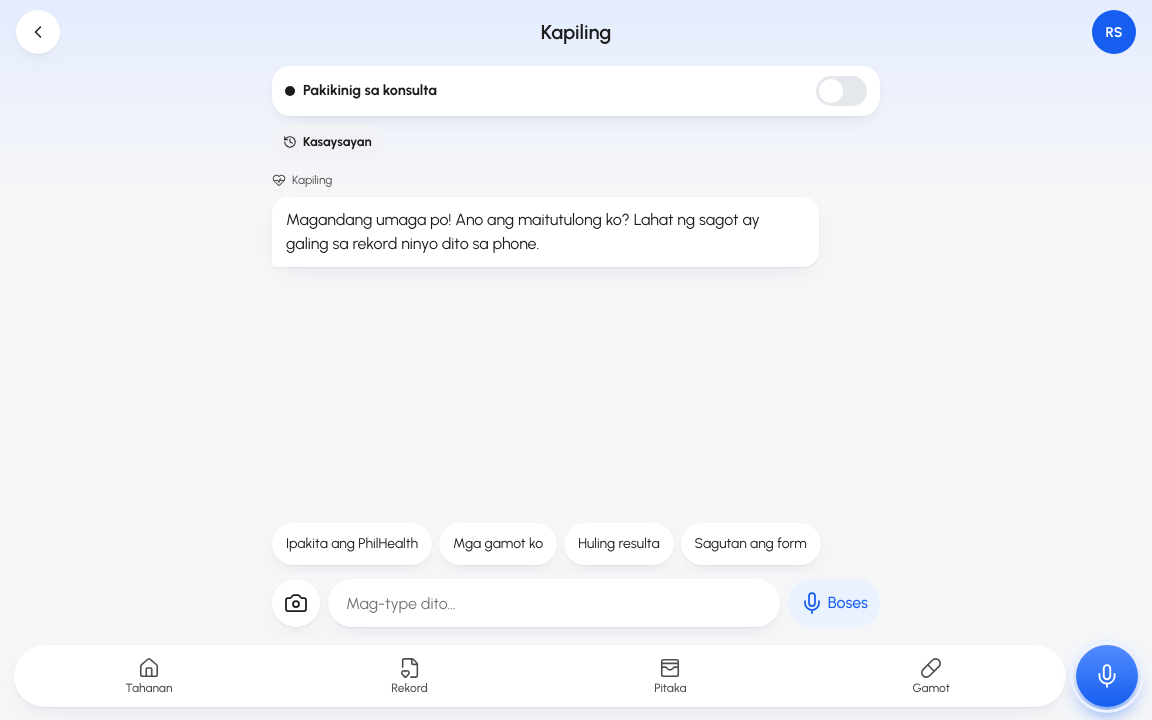
Test case: ChatPage › Stop posts cancel and shows "Itinigil"
Type "Kumusta" into the text box labelled "Mag-type dito…" at (554, 603), box [328,579,780,627]
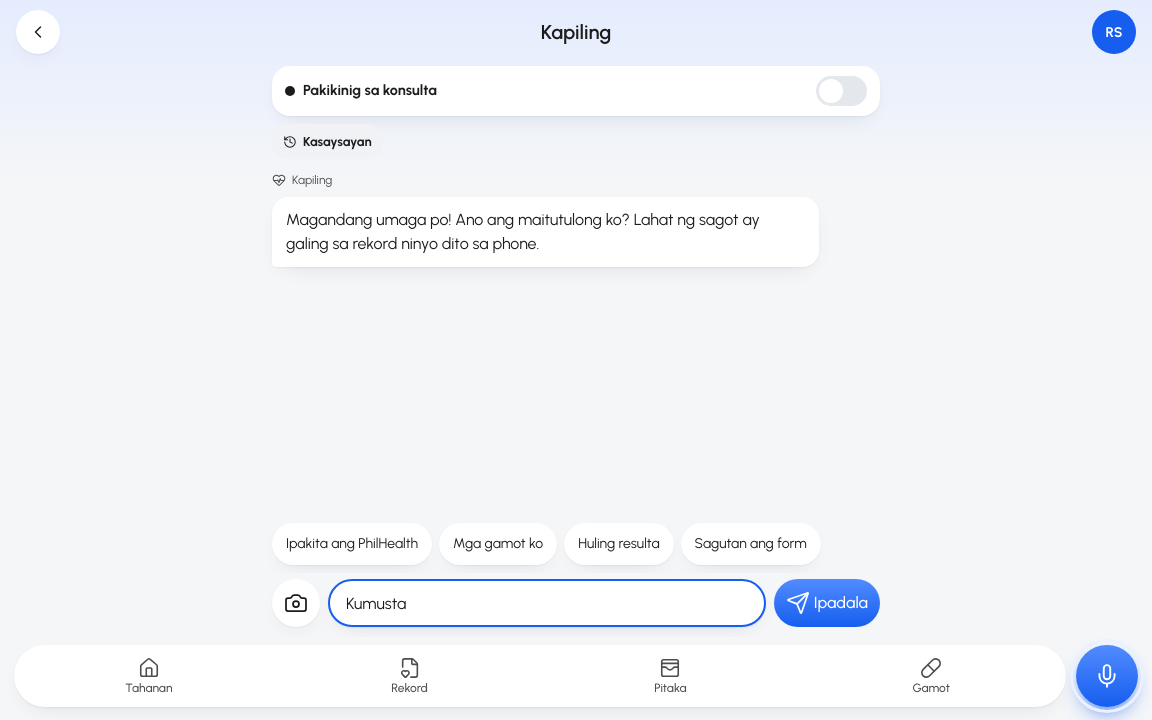
Click the button "Ipadala" at (827, 603), box [774,579,880,627]
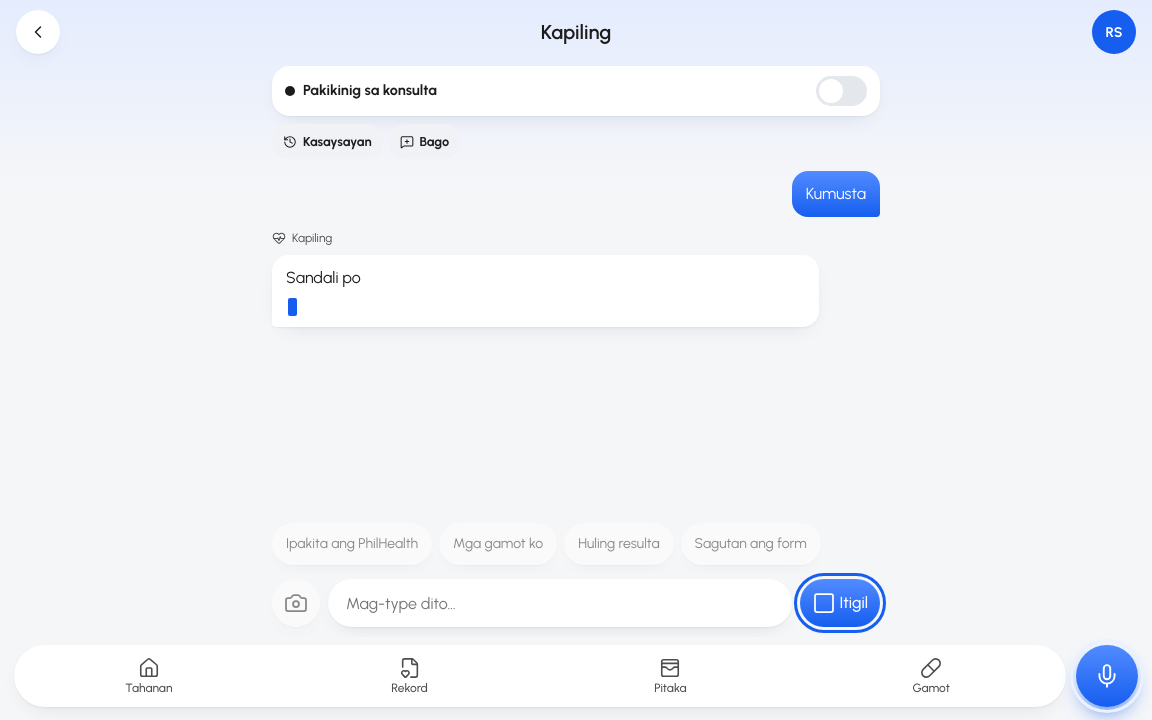
Click the button "Itigil" at (840, 603), box [800,579,880,627]
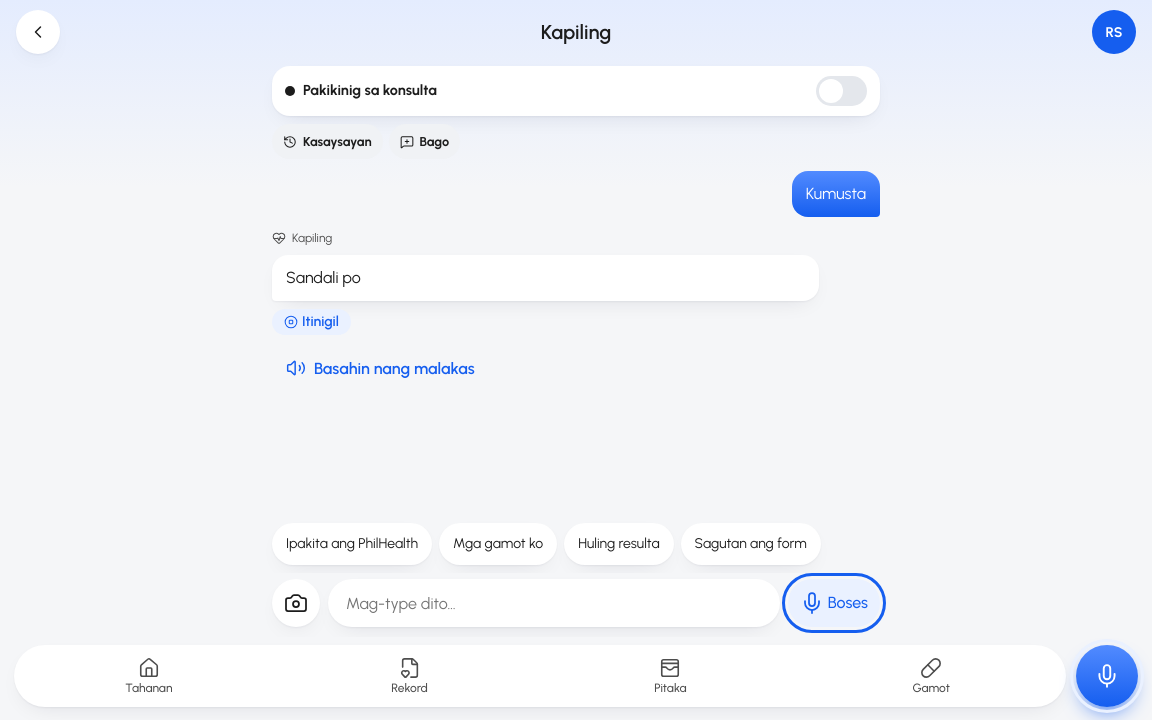
Now the text "Sandali po" is shown, box [286,268,361,287]
Now the text "Itinigil" is shown, box [272,309,351,335]
Now the button "Boses" is shown, box [788,579,880,627]
